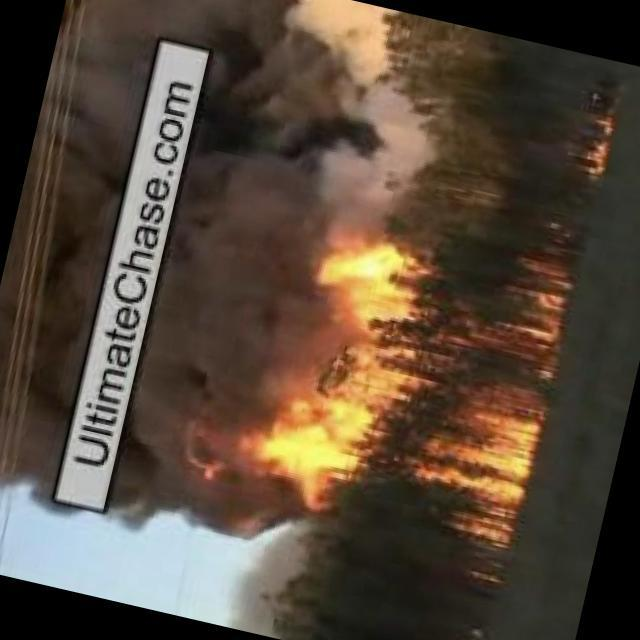Fire: (234, 205, 576, 531), (577, 109, 617, 188)
